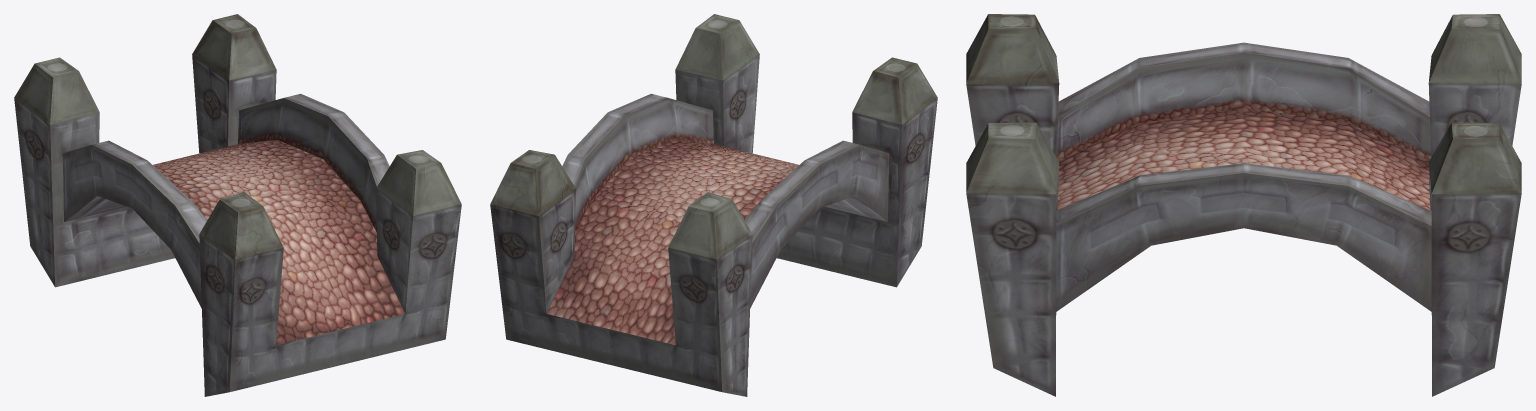
File: BKS_Set3_BridgeA.fbx
3 renders of one model, left to right at view 1: azimuth 30°, elevation 25°; view 2: azimuth 150°, elevation 25°; view 3: azimuth 270°, elevation 25°, orthographic. The views are drawn at different scales.
Visible parts, largest first — view 1: bridgeA; view 2: bridgeA; view 3: bridgeA.
Part boxes in pixels (x1,y1,x2,y2): bridgeA: [14, 14, 461, 396]; bridgeA: [490, 14, 937, 396]; bridgeA: [966, 14, 1521, 396].
Size of the model in its own units: 5.12 by 4.38 by 8.65.
